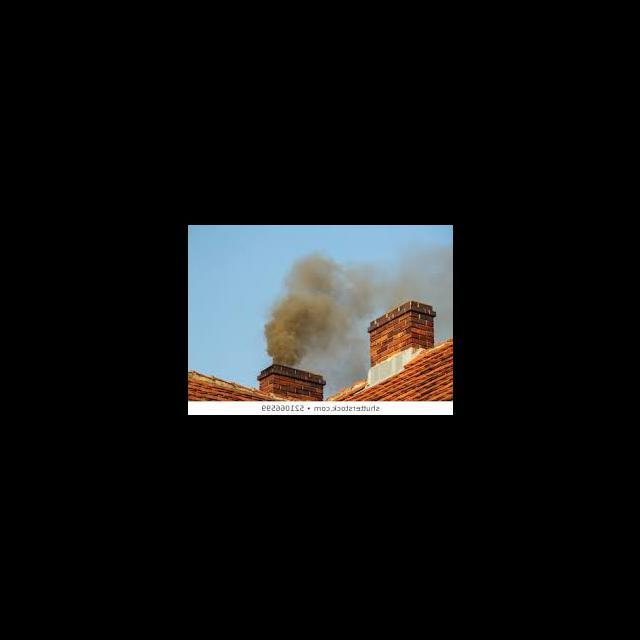Smoke: (264, 266, 332, 362)
